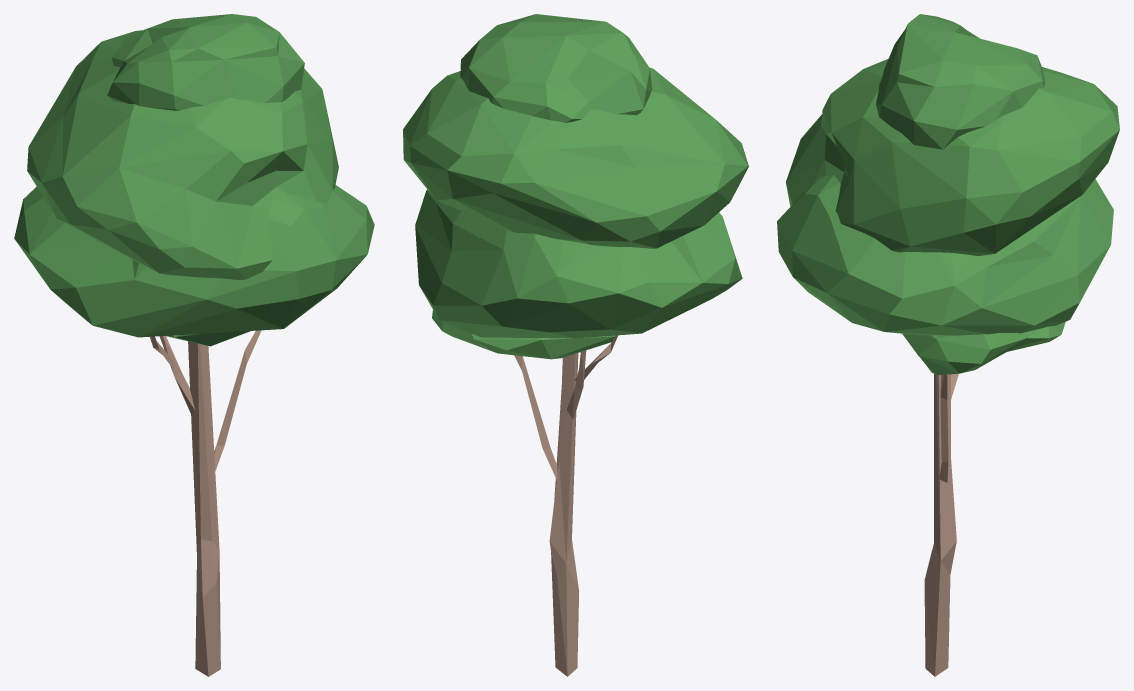
The model's file is SOS_props_tree_A_01.fbx.
3 renders of one model, left to right at view 1: azimuth 30°, elevation 25°; view 2: azimuth 150°, elevation 25°; view 3: azimuth 270°, elevation 25°, orthographic.
Visible parts, largest first — view 1: tree A; view 2: tree A; view 3: tree A.
Boxes of the visible parts, box(x1,y1,x2,y2) form: tree A: box(14, 14, 374, 676); tree A: box(403, 14, 748, 676); tree A: box(777, 14, 1119, 676).
Bounding box in the file's own units: 3228 × 6529 × 3197.
